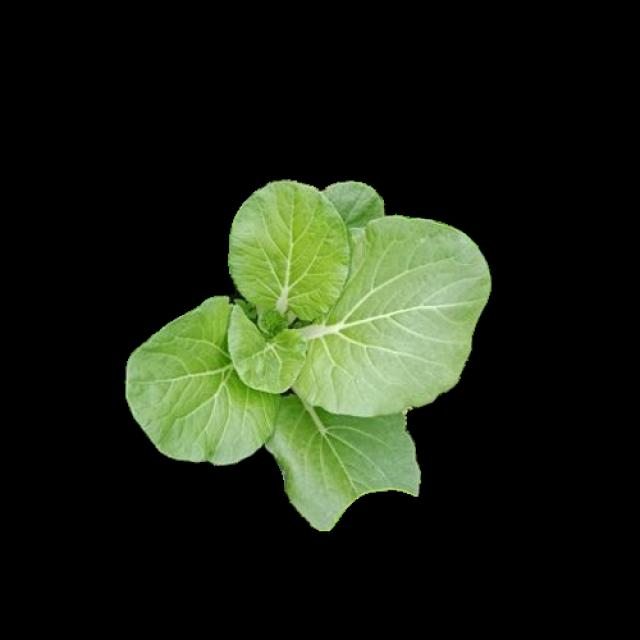not-mature: (133, 183, 490, 529)
unhealthy: (264, 388, 424, 527)
